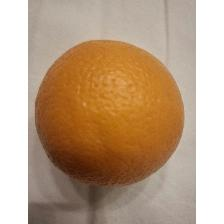Mandarine: (33, 36, 187, 190)
